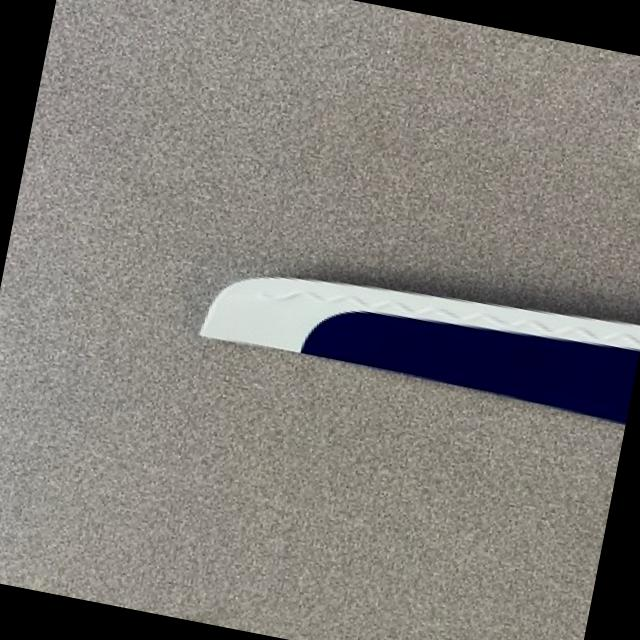healthy: (203, 275, 640, 419)
